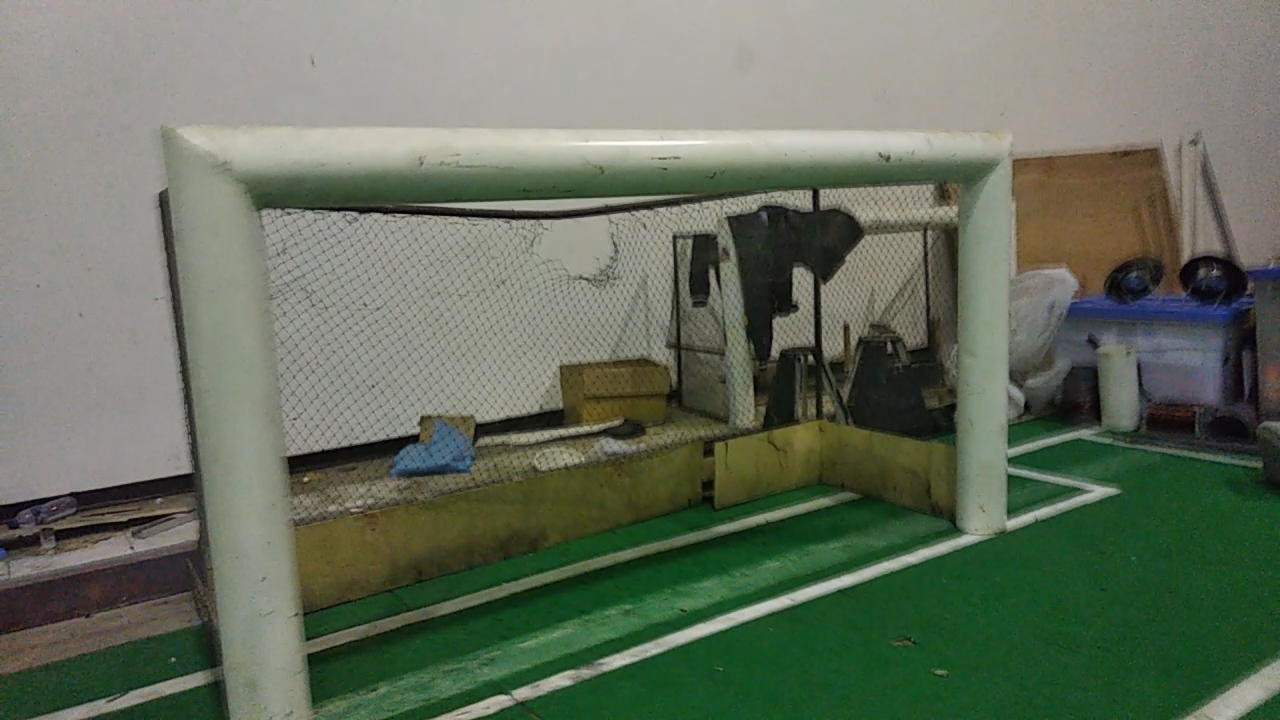gawang: (146, 106, 1024, 713)
